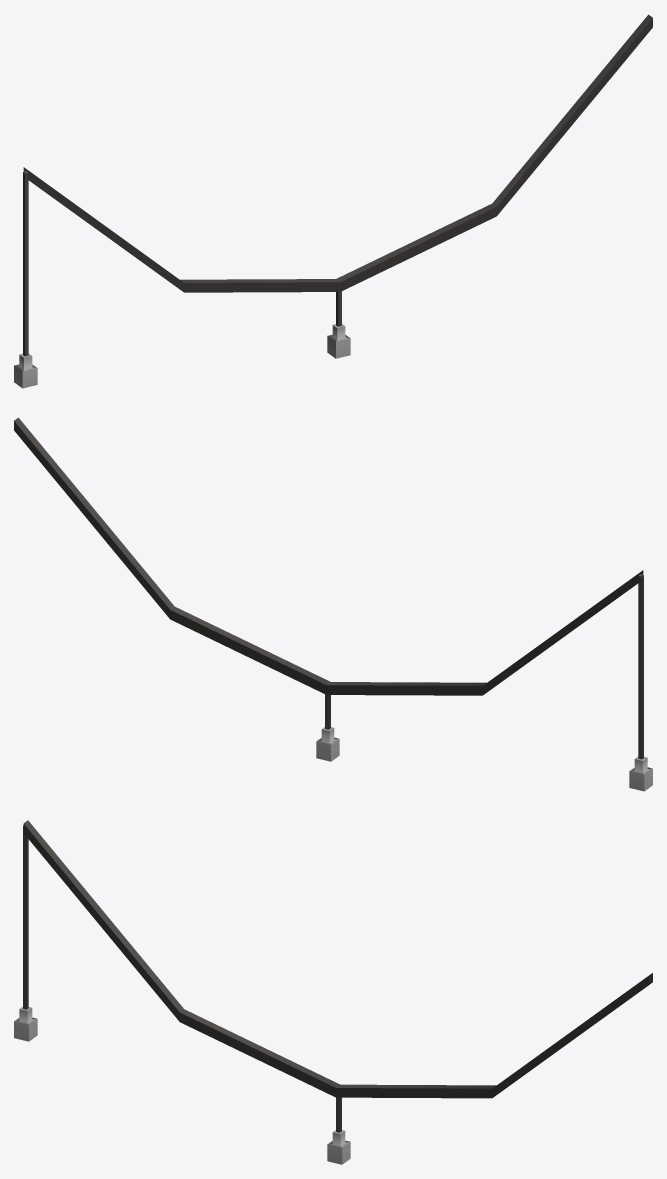
The model's file is AI_Env_StringLights.fbx.
The picture shows the model from 3 angles, top to bottom: view 1: azimuth 30°, elevation 25°; view 2: azimuth 150°, elevation 25°; view 3: azimuth 330°, elevation 25°; orthographic projection.
Parts seen in each view (by area): view 1: AI_Env_StringLights; view 2: AI_Env_StringLights; view 3: AI_Env_StringLights.
Part boxes in pixels (x1=…): AI_Env_StringLights: x1=14, y1=14, x2=652, y2=388; AI_Env_StringLights: x1=14, y1=417, x2=652, y2=791; AI_Env_StringLights: x1=14, y1=820, x2=652, y2=1164.
Bounding box in the file's own units: 10.12 × 4 × 0.2398.
